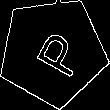P_NW: (22, 23, 83, 80)
